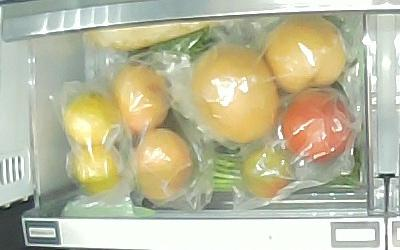peach_vinyl: (130, 126, 194, 204), (110, 64, 171, 135)
pear_vinyl: (191, 42, 279, 146), (263, 13, 348, 94)
tangerine_vinyl: (65, 91, 119, 145), (69, 143, 122, 195)
tomato_vinyl: (281, 86, 355, 166), (241, 143, 292, 200)
